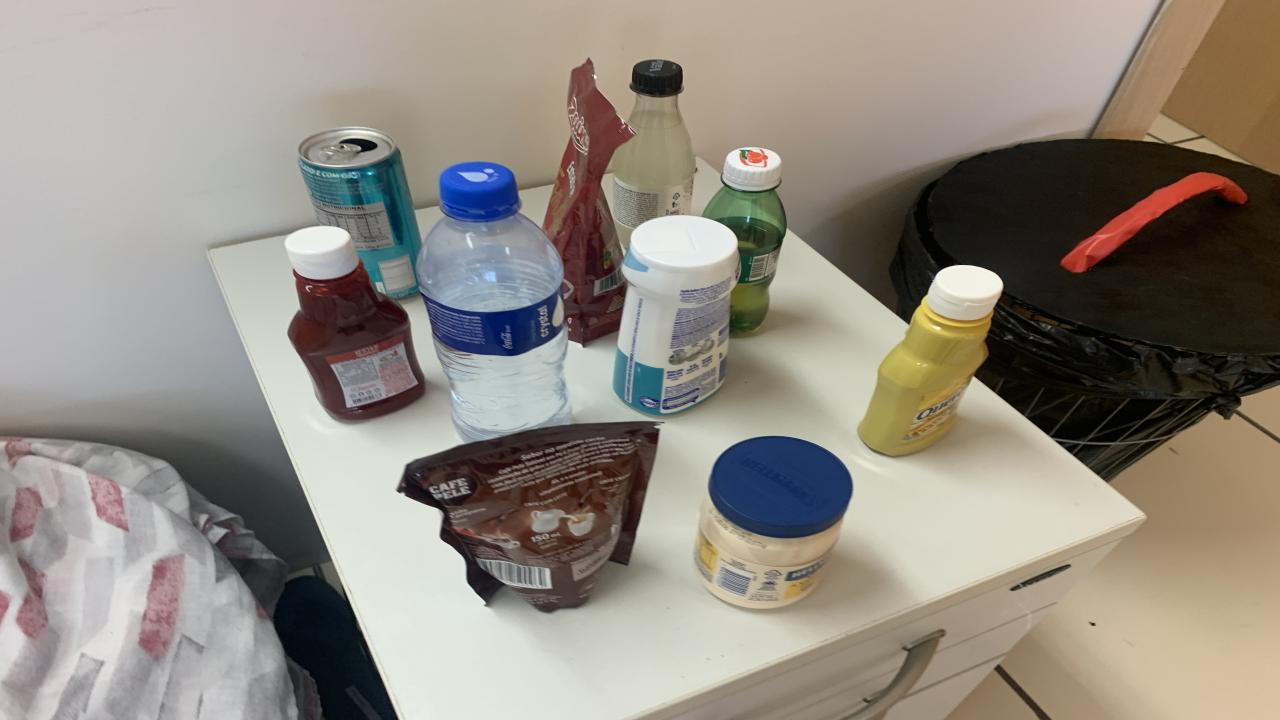Cleaner-Cleanup_Items: (612, 216, 740, 418)
Coffee-Pantry_Items: (398, 422, 658, 611)
Guarana-Drinks: (702, 146, 788, 334)
Ketchup-Pantry_Items: (285, 225, 425, 420)
Mayonnaise-Pantry_Items: (695, 437, 852, 609)
Mustard-Pantry_Items: (858, 264, 1002, 456)
Soda-Drinks: (612, 60, 695, 248)
Tea-Drinks: (298, 128, 422, 298)
Tomato_Sauce-Pantry_Items: (542, 58, 635, 343)
Water_Bottle-Drinks: (418, 161, 572, 442)
